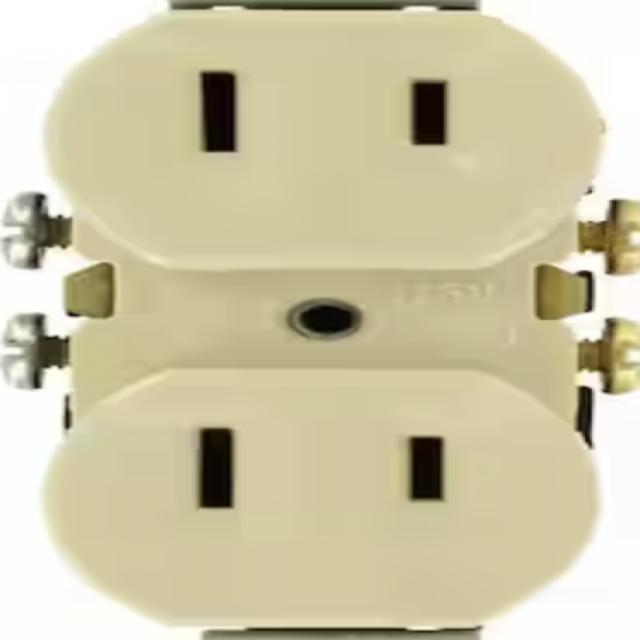type_a: (44, 14, 600, 636), (42, 370, 603, 634), (44, 14, 598, 265)
